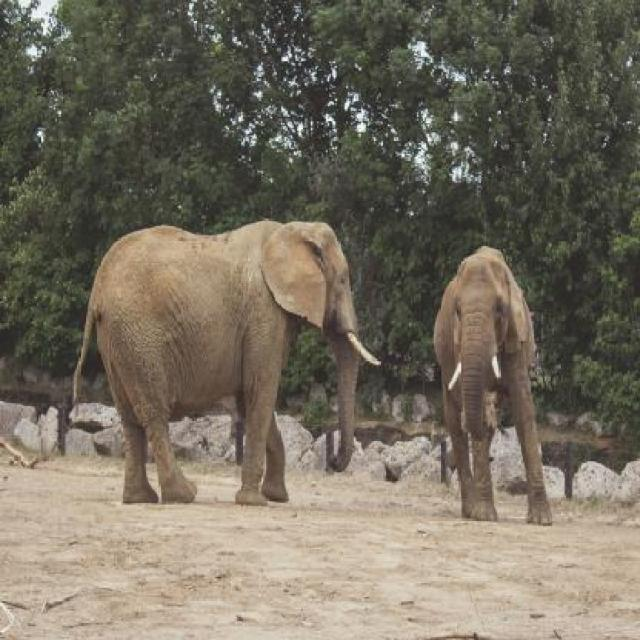Elephant: (68, 205, 380, 508), (432, 242, 566, 528)
